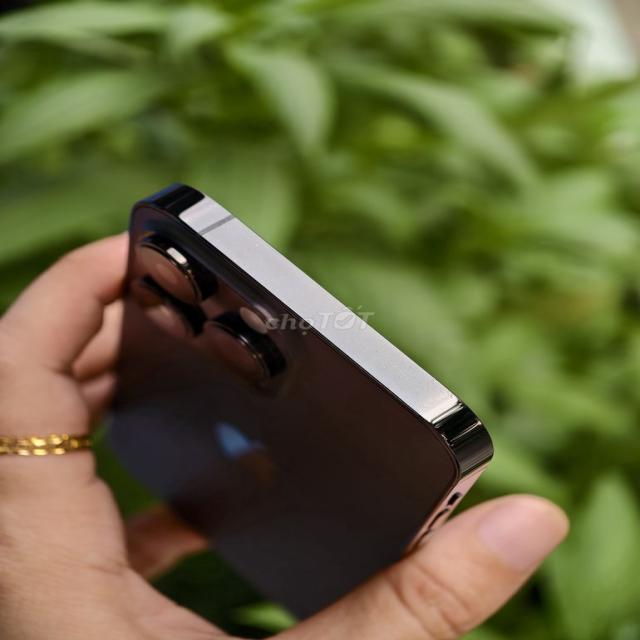gen_14: (76, 179, 498, 625)
